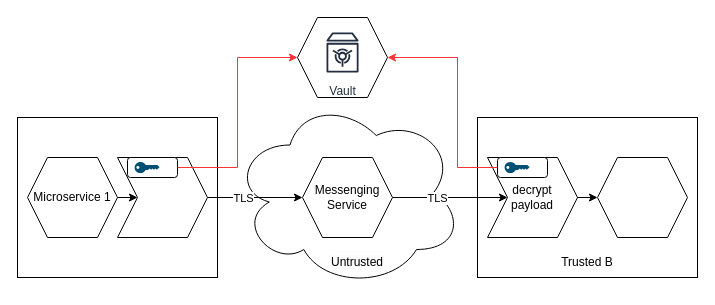
Image size: 715x305. Some labels were removed from this diagram. Here are the shapes that lost their labels. From the top down, the box of each, then its label:
(16, 116, 218, 278): Trusted A
(116, 156, 208, 238): encrypt payload
(596, 156, 688, 238): Microservice 2
